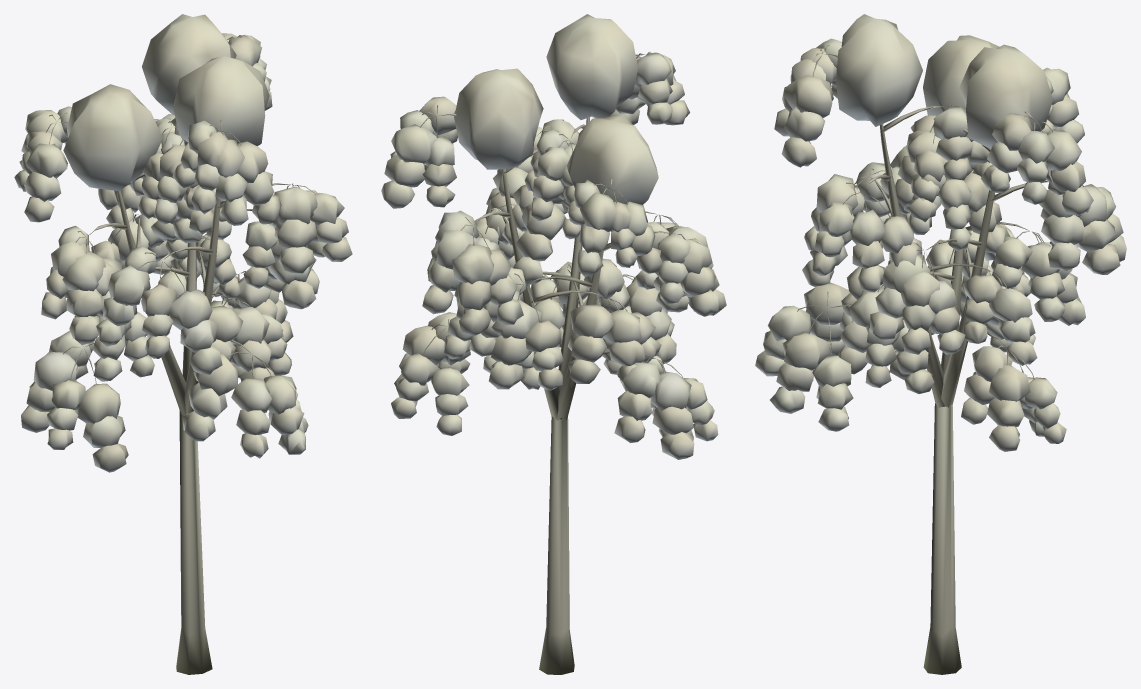
The picture shows the model from 3 angles, left to right: view 1: azimuth 30°, elevation 25°; view 2: azimuth 150°, elevation 25°; view 3: azimuth 270°, elevation 25°; orthographic projection. The views are drawn at different scales.
Parts seen in each view (by area): view 1: crown, trunk; view 2: crown, trunk; view 3: crown, trunk.
Boxes of the visible parts, box(x1,y1,x2,y2) form: crown: box(14, 14, 352, 472); trunk: box(46, 36, 315, 674); crown: box(381, 14, 726, 459); trunk: box(420, 51, 685, 674); crown: box(755, 14, 1126, 451); trunk: box(797, 45, 1083, 674).
Size of the model in its own units: 6.97 by 14.69 by 7.64.
